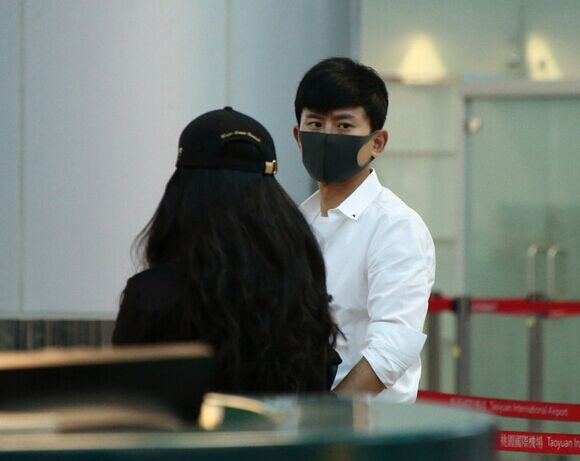face_mask: (298, 95, 367, 180)
